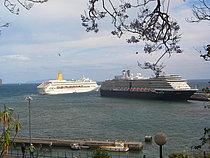Ship: (102, 72, 197, 103), (35, 78, 100, 96)
